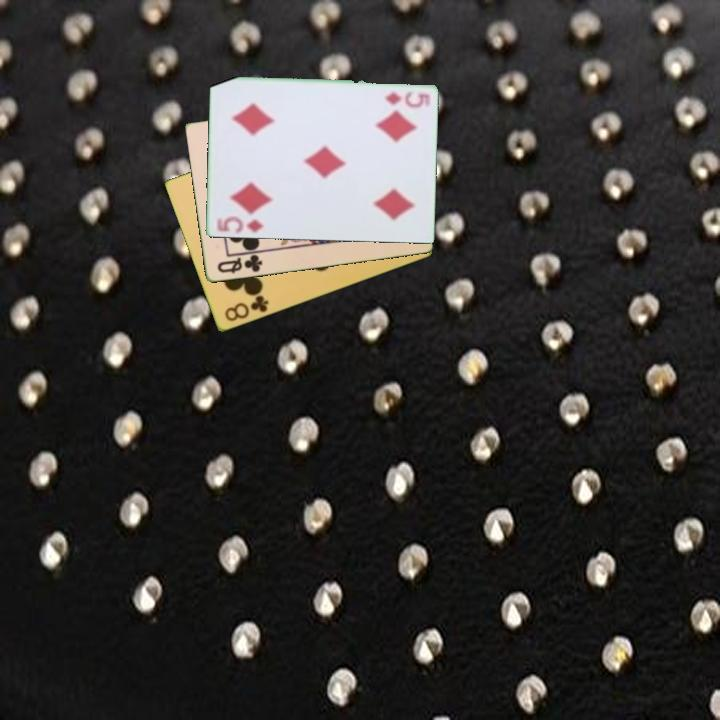5d: (212, 213, 266, 236), (381, 88, 432, 108)
8c: (221, 292, 271, 325)
Qc: (213, 251, 265, 277)
